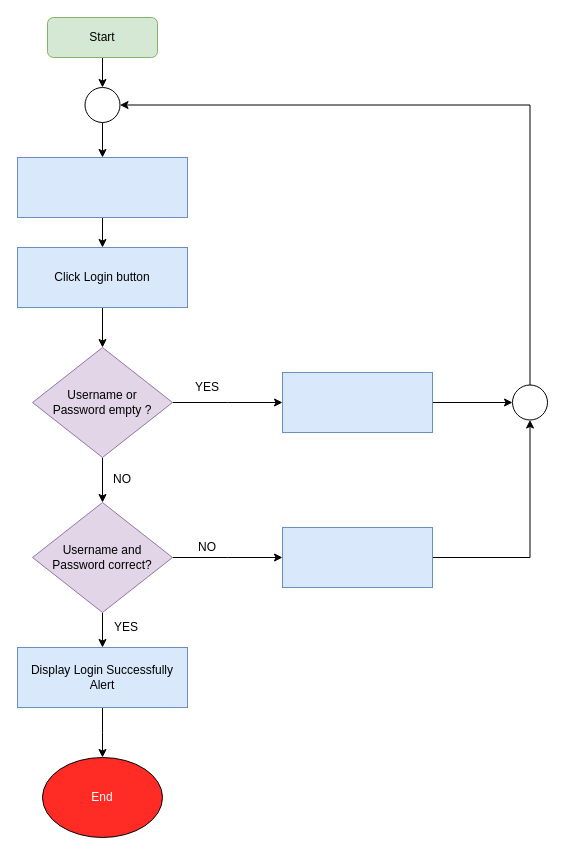
Image size: 565x855. Some labels were removed from this diagram. Here are the shapes that lost their labels. From the top down, the centre of each, then its label:
At [102,187]: "Client enters username and password".
At [357,402]: "Display Username or Password empty Alert".
At [357,557]: "Display Username or Password incorrect Alert".
